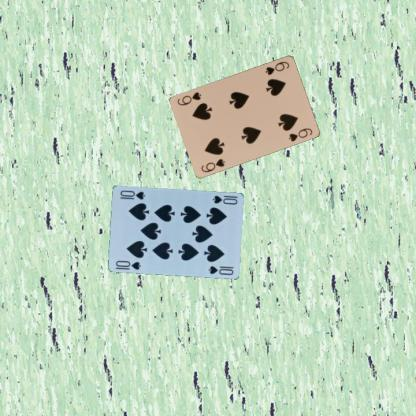10s: (210, 192, 239, 206), (113, 258, 142, 271)
6s: (263, 58, 291, 76), (199, 156, 226, 173)
